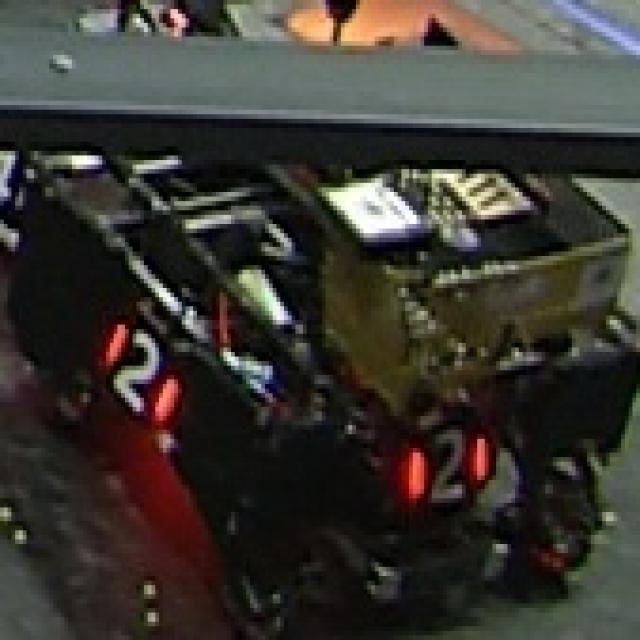R2: (402, 421, 492, 512), (102, 320, 178, 421)
